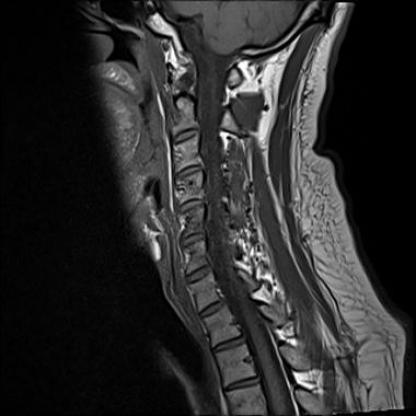Disc Bulgerotation: (184, 268, 214, 281), (173, 165, 204, 177)
